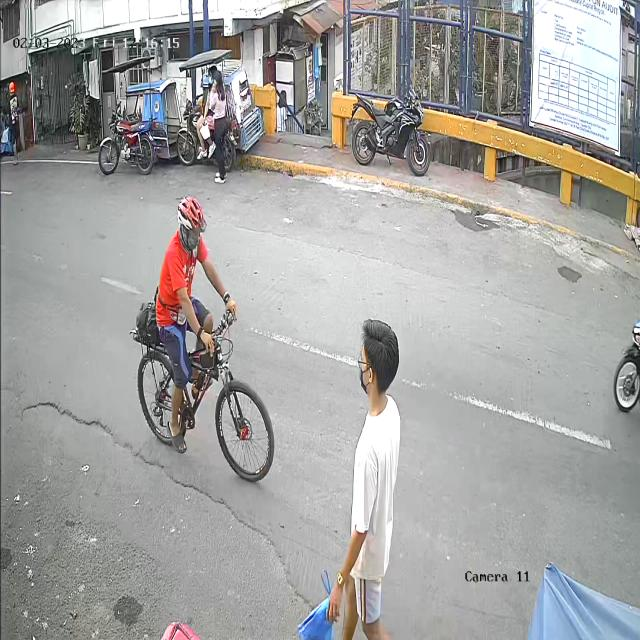human: (297, 319, 400, 640)
trash: (296, 557, 336, 640)
